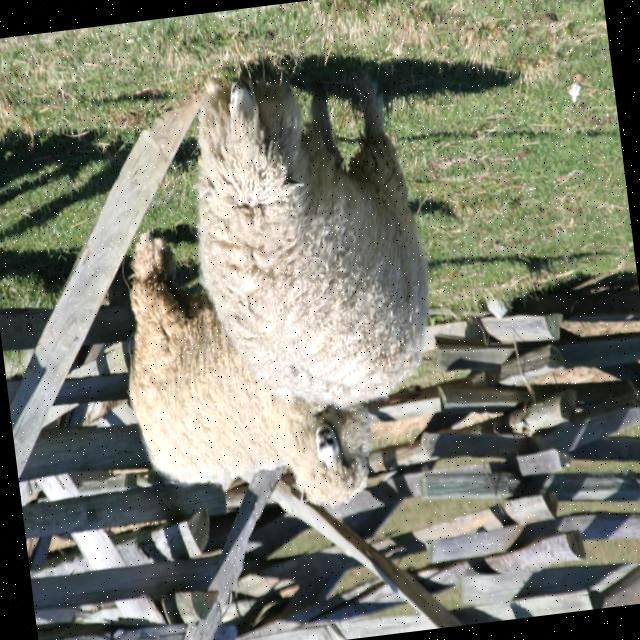sheep: (192, 72, 430, 408), (127, 232, 373, 505)
